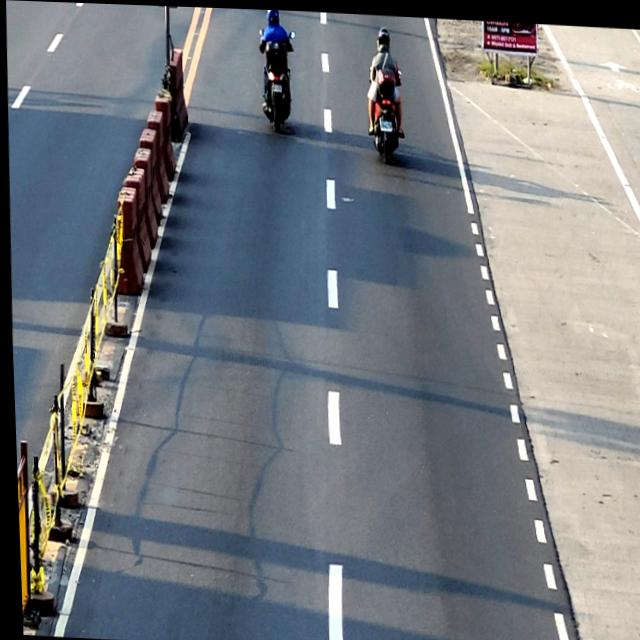License-Plate: (379, 117, 390, 128), (269, 82, 281, 90)
Motorcycle: (257, 25, 298, 132), (367, 59, 403, 162)
